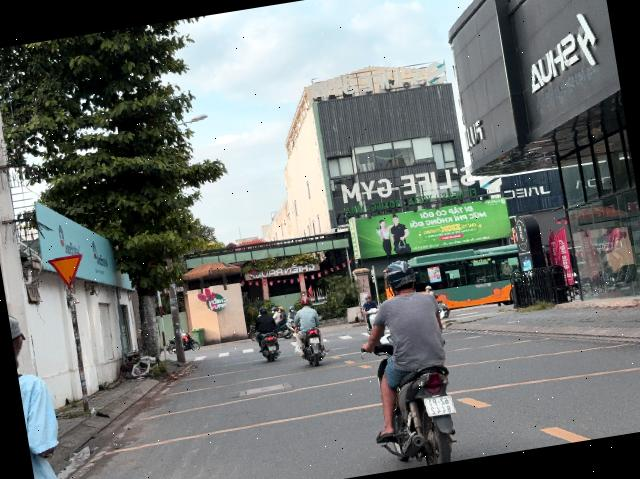giao-nhau-voi-duong-uu-tien: (46, 253, 86, 291)
